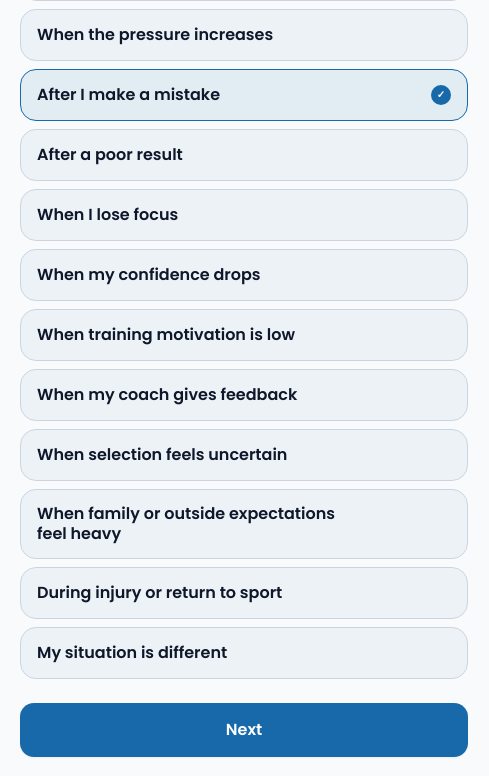
Test case: section-scoped edits open only their own section › ?section=pressure asks Situation first, then the branch follow-ups — and nothing else
The image size is (489, 776).
(page scrolled)
Click the button "Next".
click(244, 730)  # box [20,703,468,757]
(page scrolled)
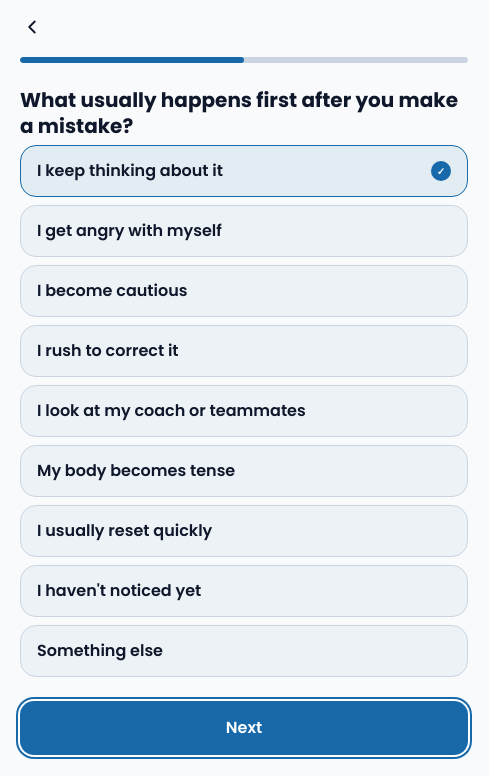
Now the heading "What usually happens first after you make a mistake?" is shown, box [20,87,468,139]
Click the button "Next".
click(244, 728)  # box [20,701,468,755]
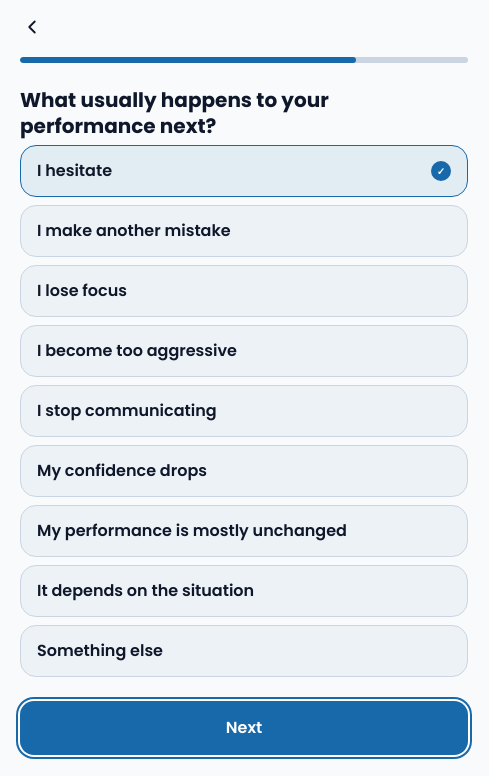
Now the heading "What usually happens to your performance next?" is shown, box [20,86,329,140]
Click the button "Next".
click(244, 728)  # box [20,701,468,755]
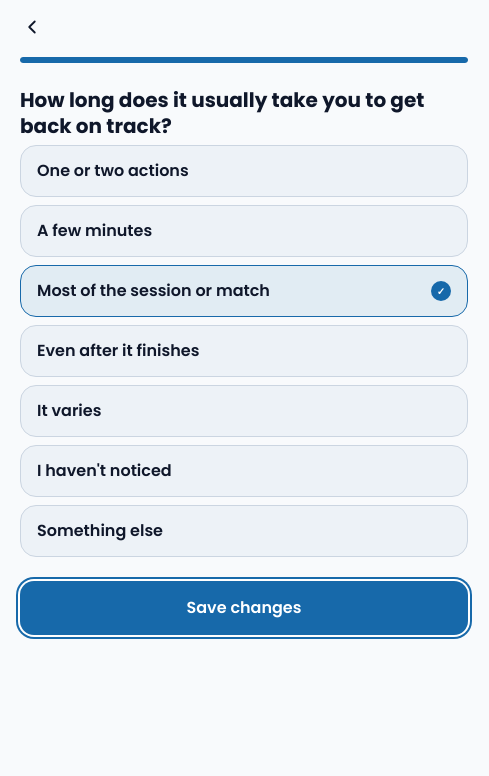
Now the heading "How long does it usually take you to get back on track?" is shown, box [20,87,468,139]
Now the button "Save changes" is shown, box [20,581,468,635]
